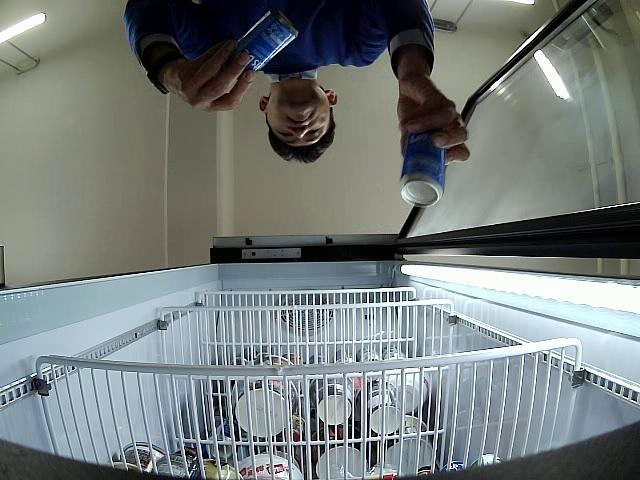15_letsbe: (218, 9, 300, 76), (400, 131, 446, 207)
